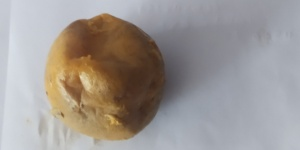BAD: (48, 12, 163, 141)
